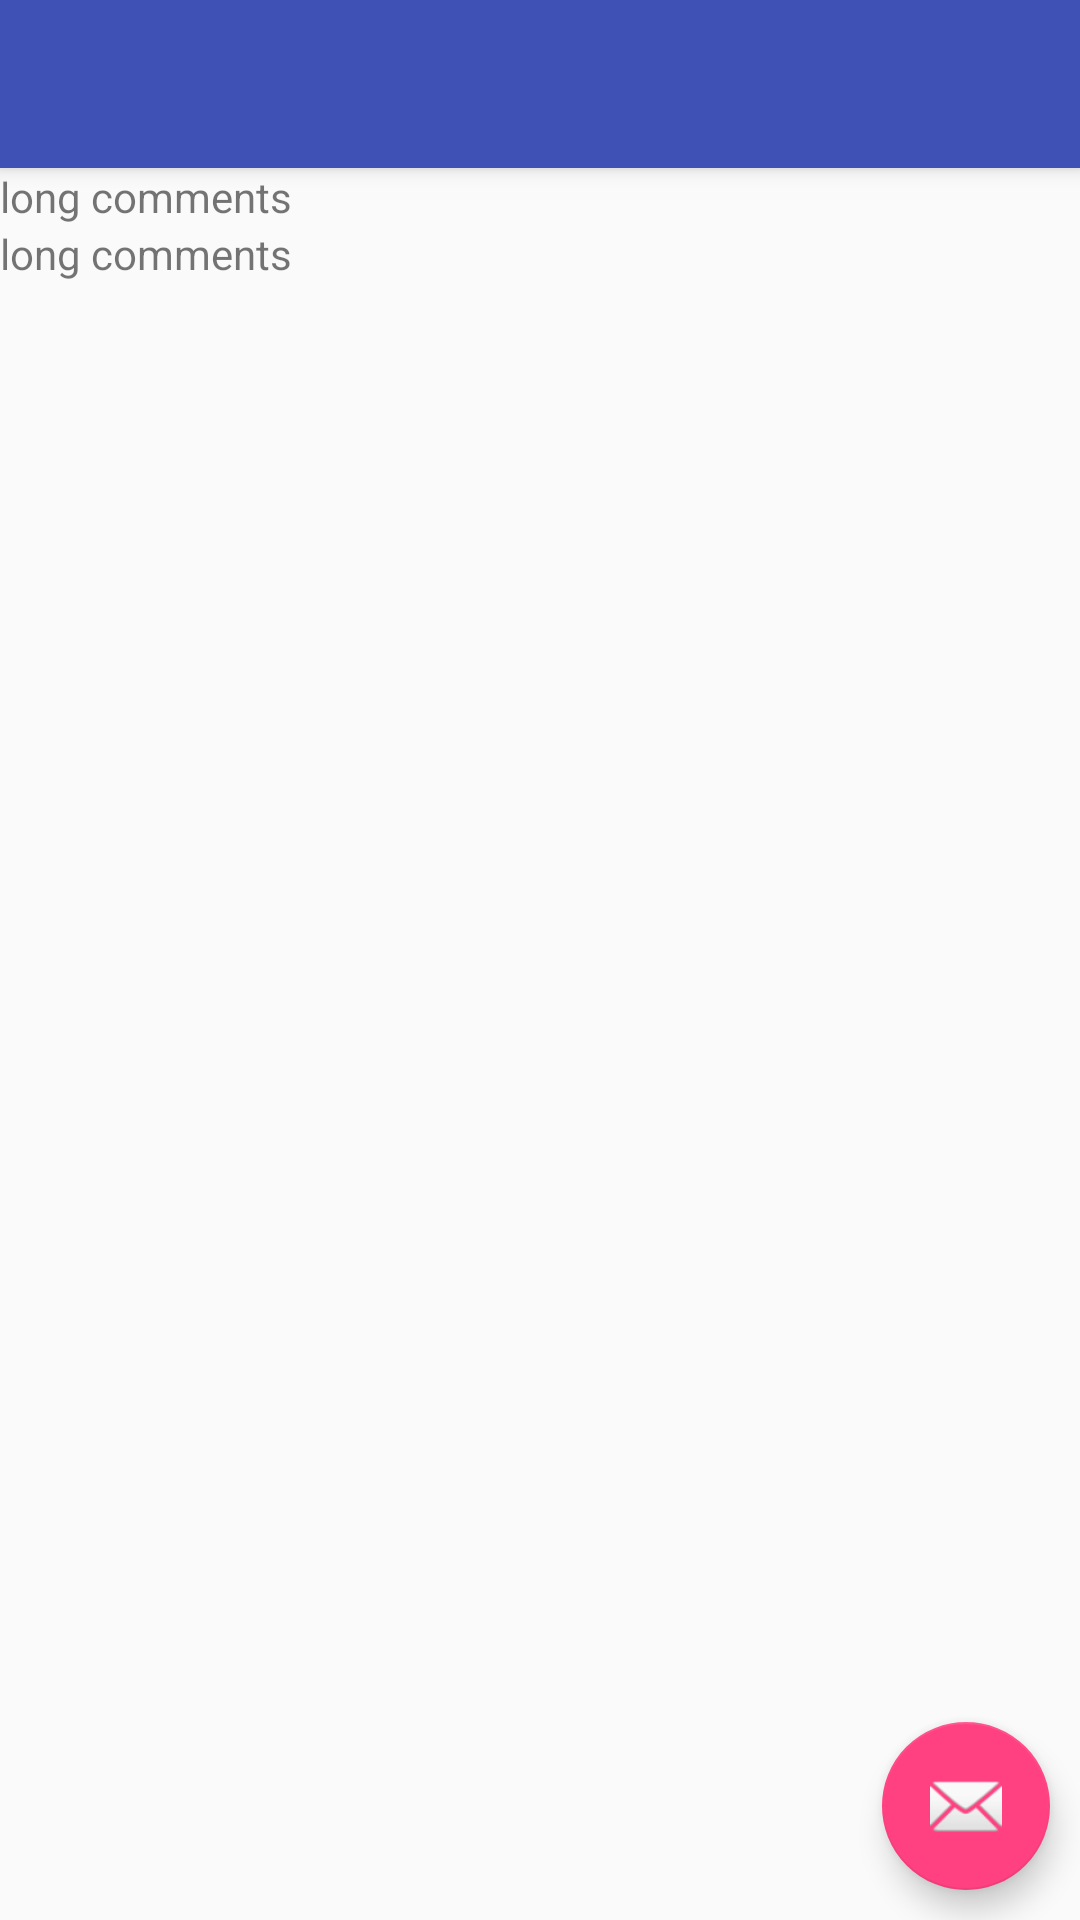

Point at icon controls on the screen. Image size 1080w x 1920h, points as point (x, y).
email: point (966, 1806)
